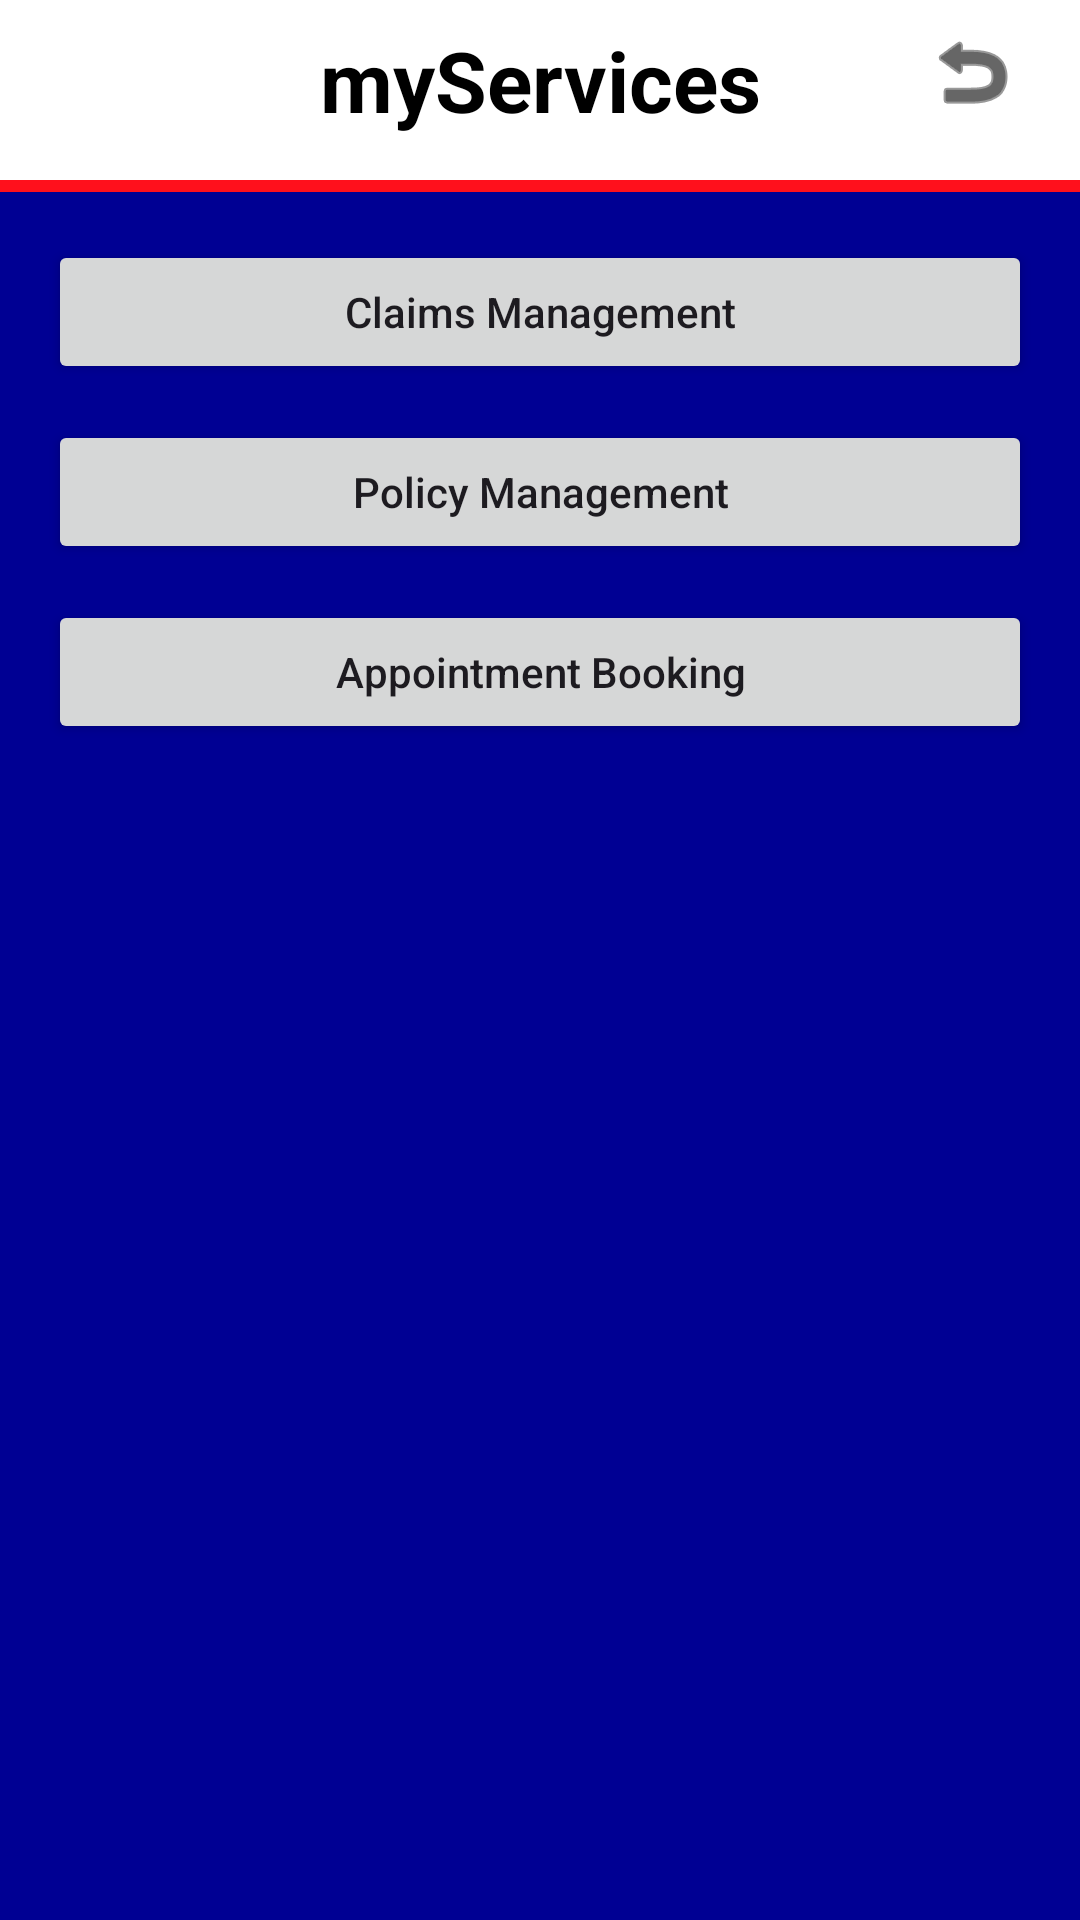

Where icons sit on this 1080*1920 app screen, as (x1, y1, x2, y2):
Return: (939, 41, 1008, 104)
